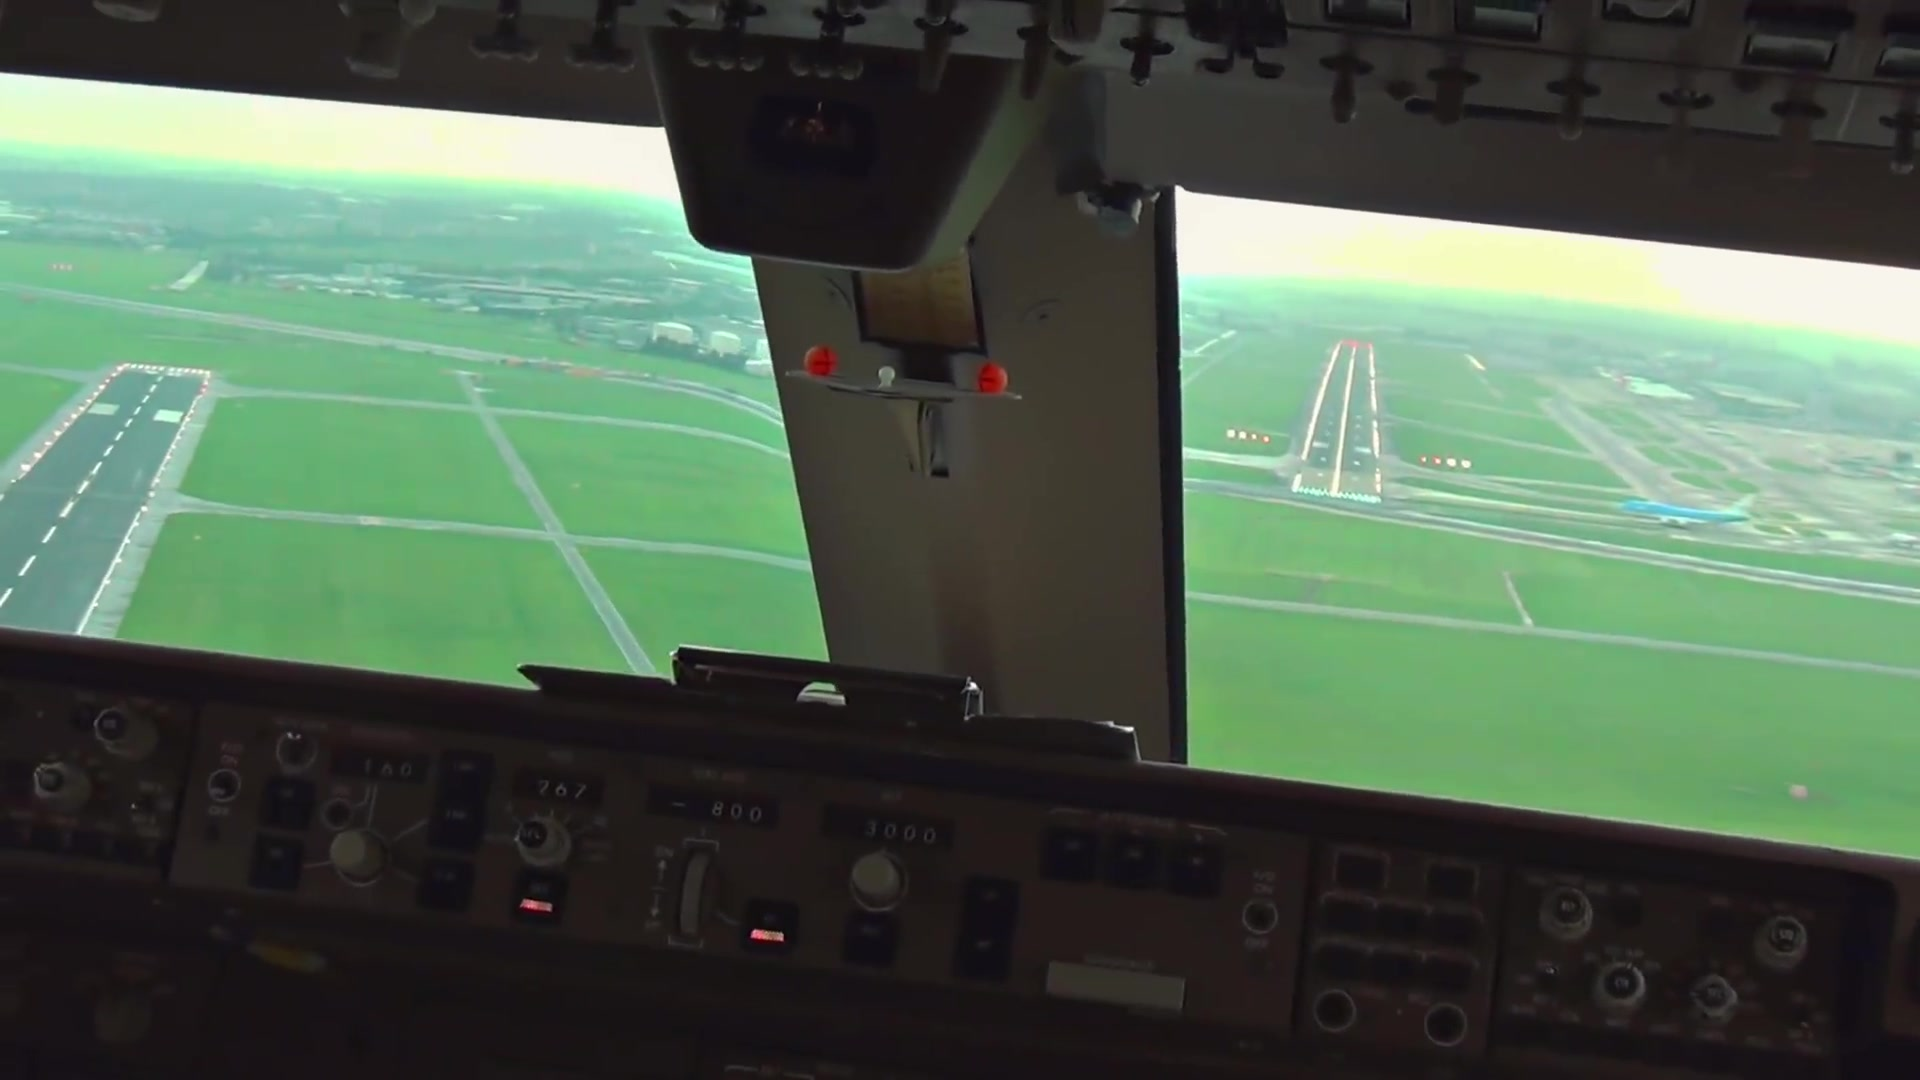entrance: (1294, 481, 1378, 506)
runway: (1, 357, 214, 640), (1288, 334, 1396, 512)
